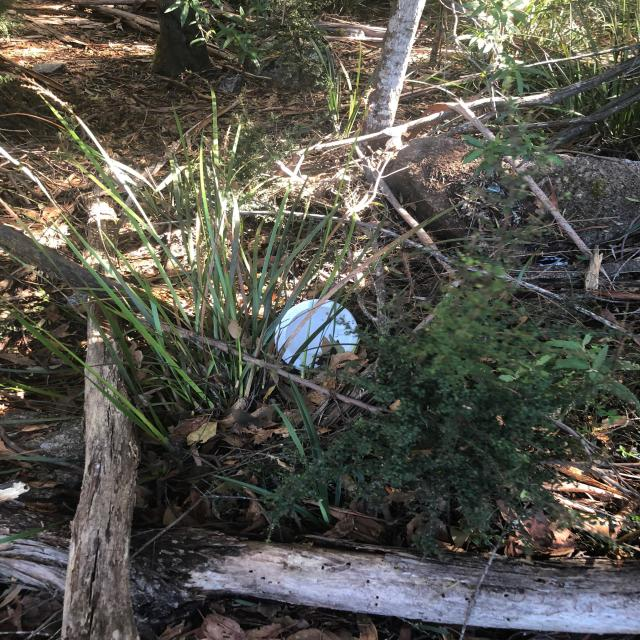litter: (399, 211, 495, 274)
